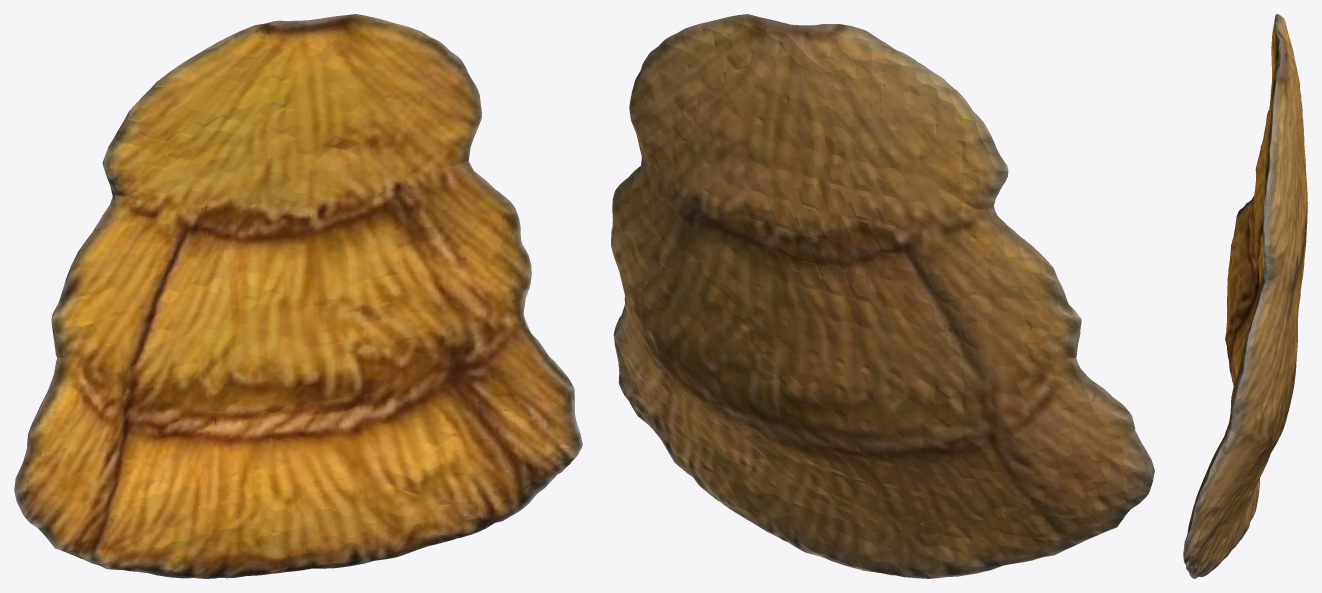
Rendered from crops.glb.
3 renders of one model, left to right at view 1: azimuth 30°, elevation 25°; view 2: azimuth 150°, elevation 25°; view 3: azimuth 270°, elevation 25°, orthographic. The views are drawn at different scales.
Parts seen in each view (by area): view 1: geometry_0; view 2: geometry_0; view 3: geometry_0.
Part boxes in pixels (left/top/right/bottom): geometry_0: left=14, top=14, right=582, bottom=578; geometry_0: left=611, top=14, right=1154, bottom=578; geometry_0: left=1183, top=14, right=1307, bottom=578.
Size of the model in its own units: 0.9243 by 0.8786 by 0.2037.
Materials: 1 (1 with a texture image).
